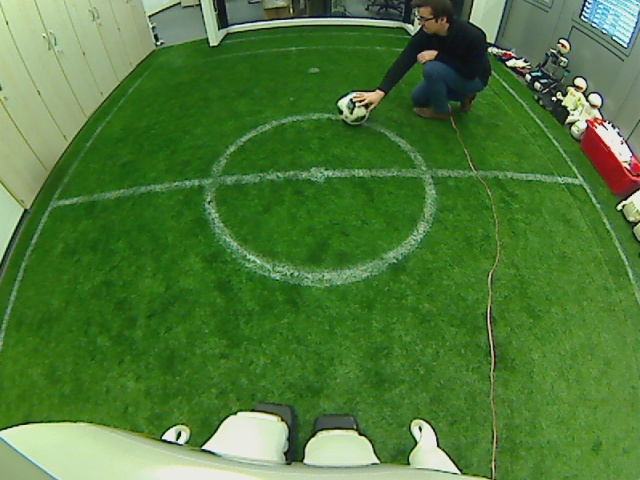ball: (335, 92, 368, 124)
